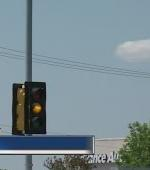yellow_light: (24, 82, 47, 134)
